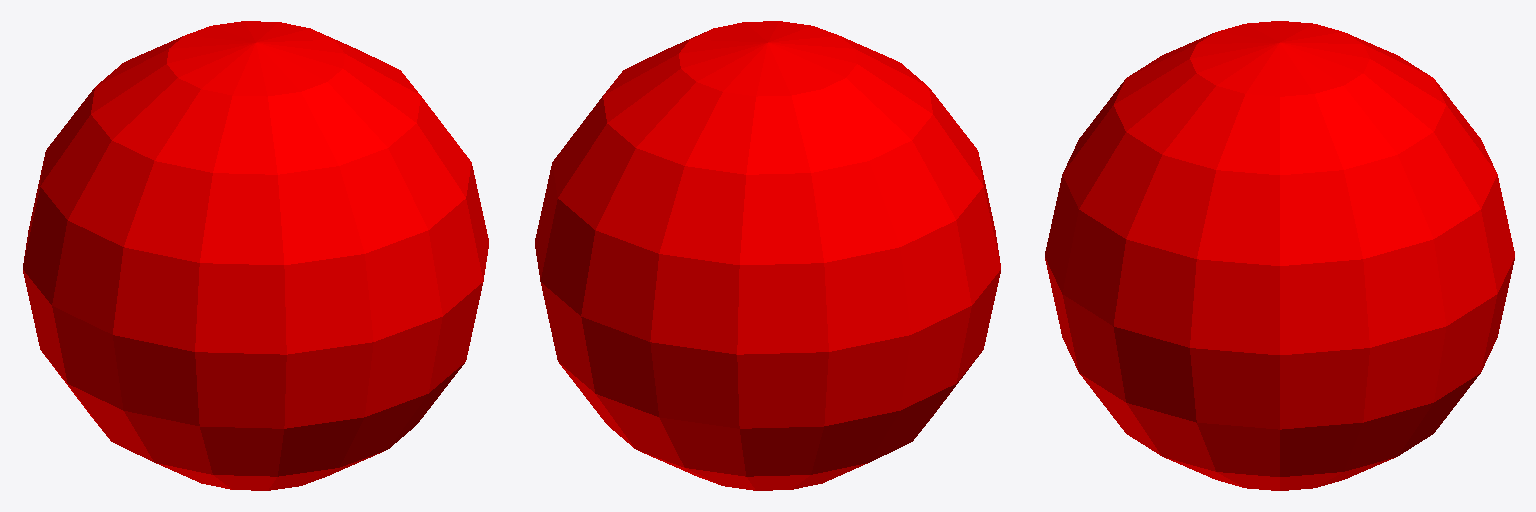
Rendered from debug.obj.
3 views of the same model, side by side, from view 1: azimuth 30°, elevation 25°; view 2: azimuth 150°, elevation 25°; view 3: azimuth 270°, elevation 25° (orthographic).
Bounding box in the file's own units: 2 × 2 × 2.